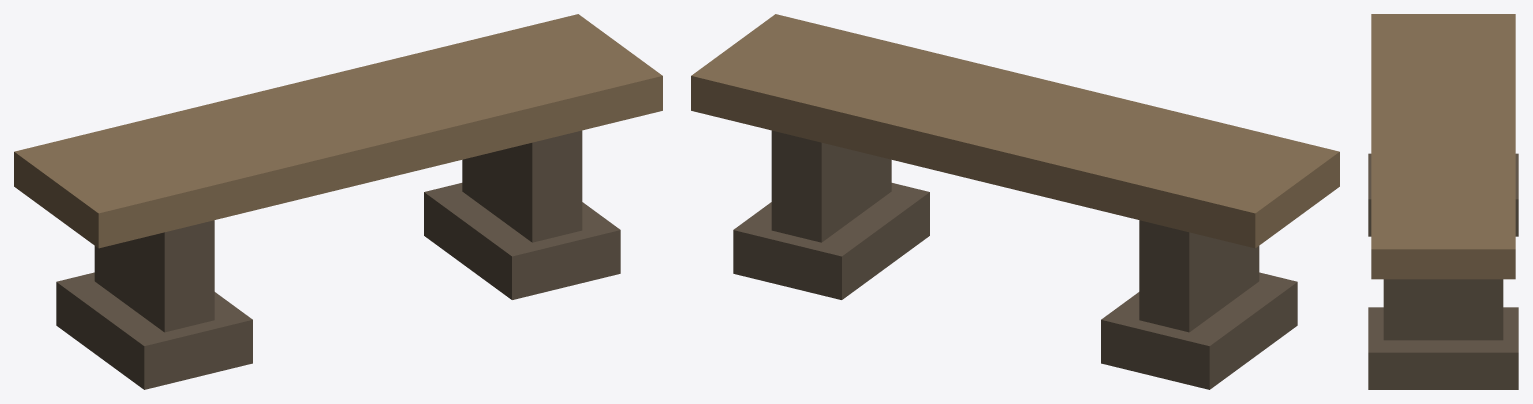
The model's file is Dungeon_Bench.fbx.
The picture shows the model from 3 angles, left to right: view 1: azimuth 30°, elevation 25°; view 2: azimuth 150°, elevation 25°; view 3: azimuth 270°, elevation 25°; orthographic projection. The views are drawn at different scales.
Visible parts, largest first — view 1: Dungeon_Bench; view 2: Dungeon_Bench; view 3: Dungeon_Bench.
Part boxes in pixels (x1,y1,x2,y2): Dungeon_Bench: (14, 14, 662, 389); Dungeon_Bench: (691, 14, 1339, 389); Dungeon_Bench: (1368, 14, 1518, 389).
Size of the model in its own units: 2.7 by 0.85 by 0.73.
